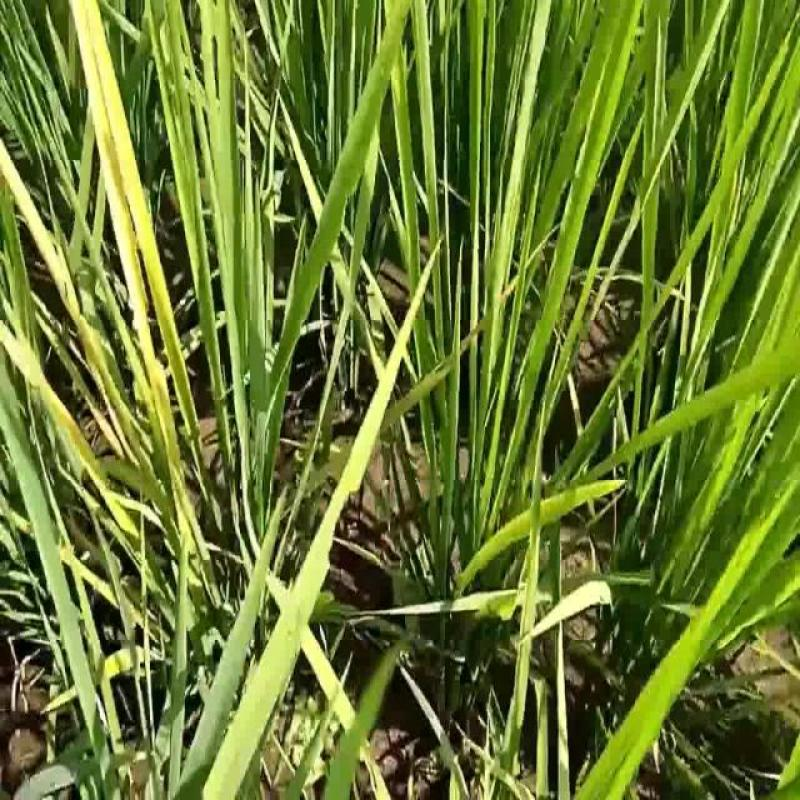Rice Tungro: (69, 1, 176, 346), (0, 113, 85, 378)
